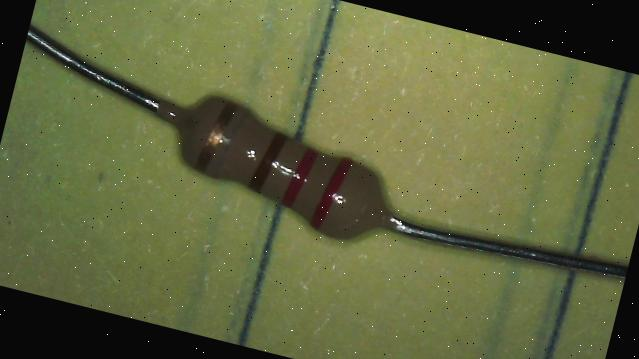brown: (248, 128, 287, 194)
gold: (194, 98, 236, 175)
red: (309, 152, 353, 233), (280, 144, 318, 210)
resistor: (146, 68, 422, 276)
